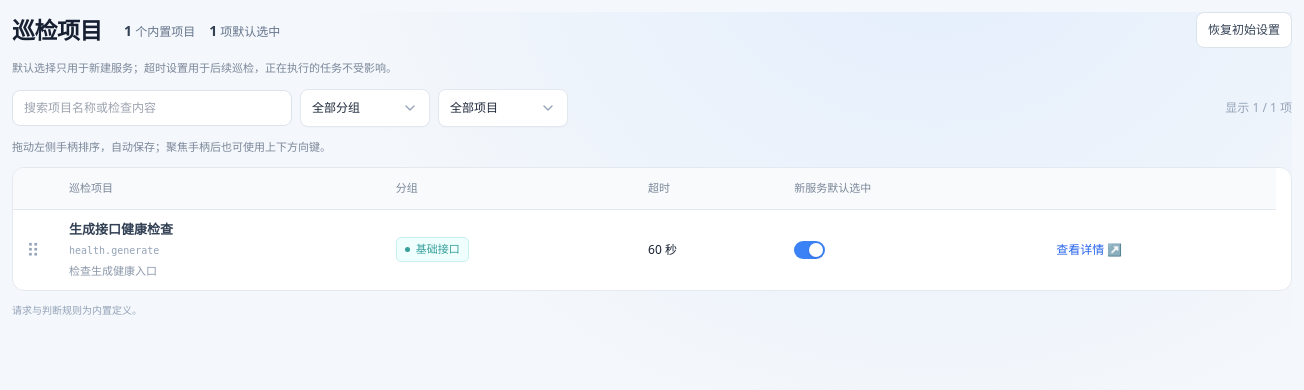
failed toggle keeps the saved selection and shows an error
What coordinates should you click on to do the following:
click the switch
I would click on:
 (810, 250)
Its box is [794, 241, 825, 259].
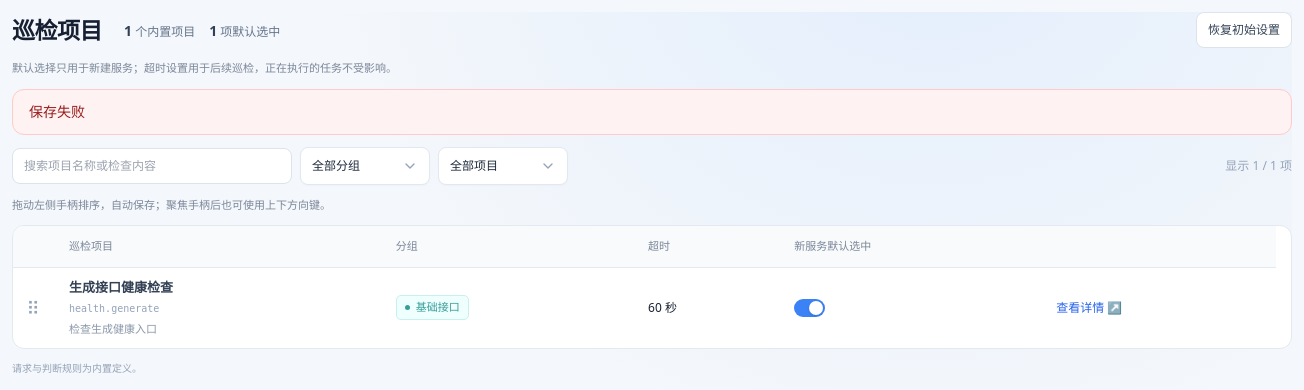
Now the message reads "保存失败", box [29, 102, 85, 120]
